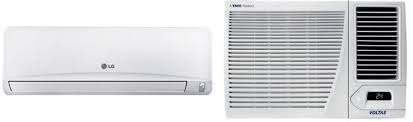ac: (2, 24, 215, 97)
